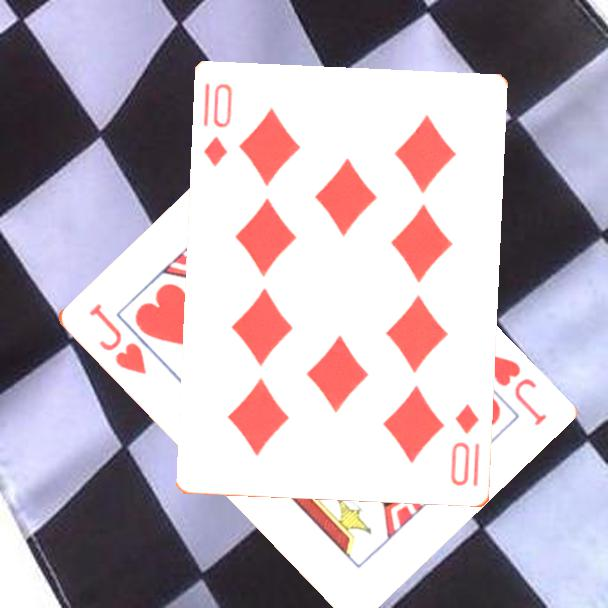d10: (200, 80, 236, 170), (447, 400, 482, 489)
h11: (84, 300, 149, 378), (485, 350, 549, 429)
